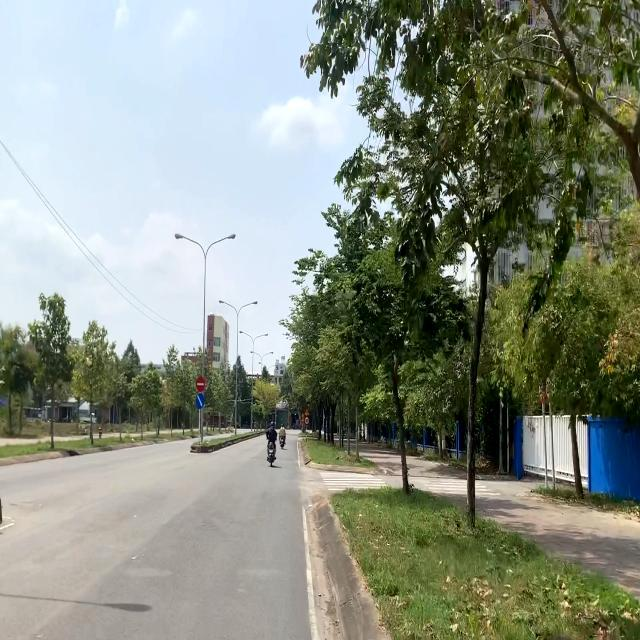Cam di nguoc chieu: (196, 376, 206, 392)
Giao nhau voi duong khong uu tien ben phai: (304, 408, 309, 416)
Toc do toi da cho phep: (304, 416, 310, 426)
Vong chuong ngai vat sang phai: (196, 393, 204, 409)
